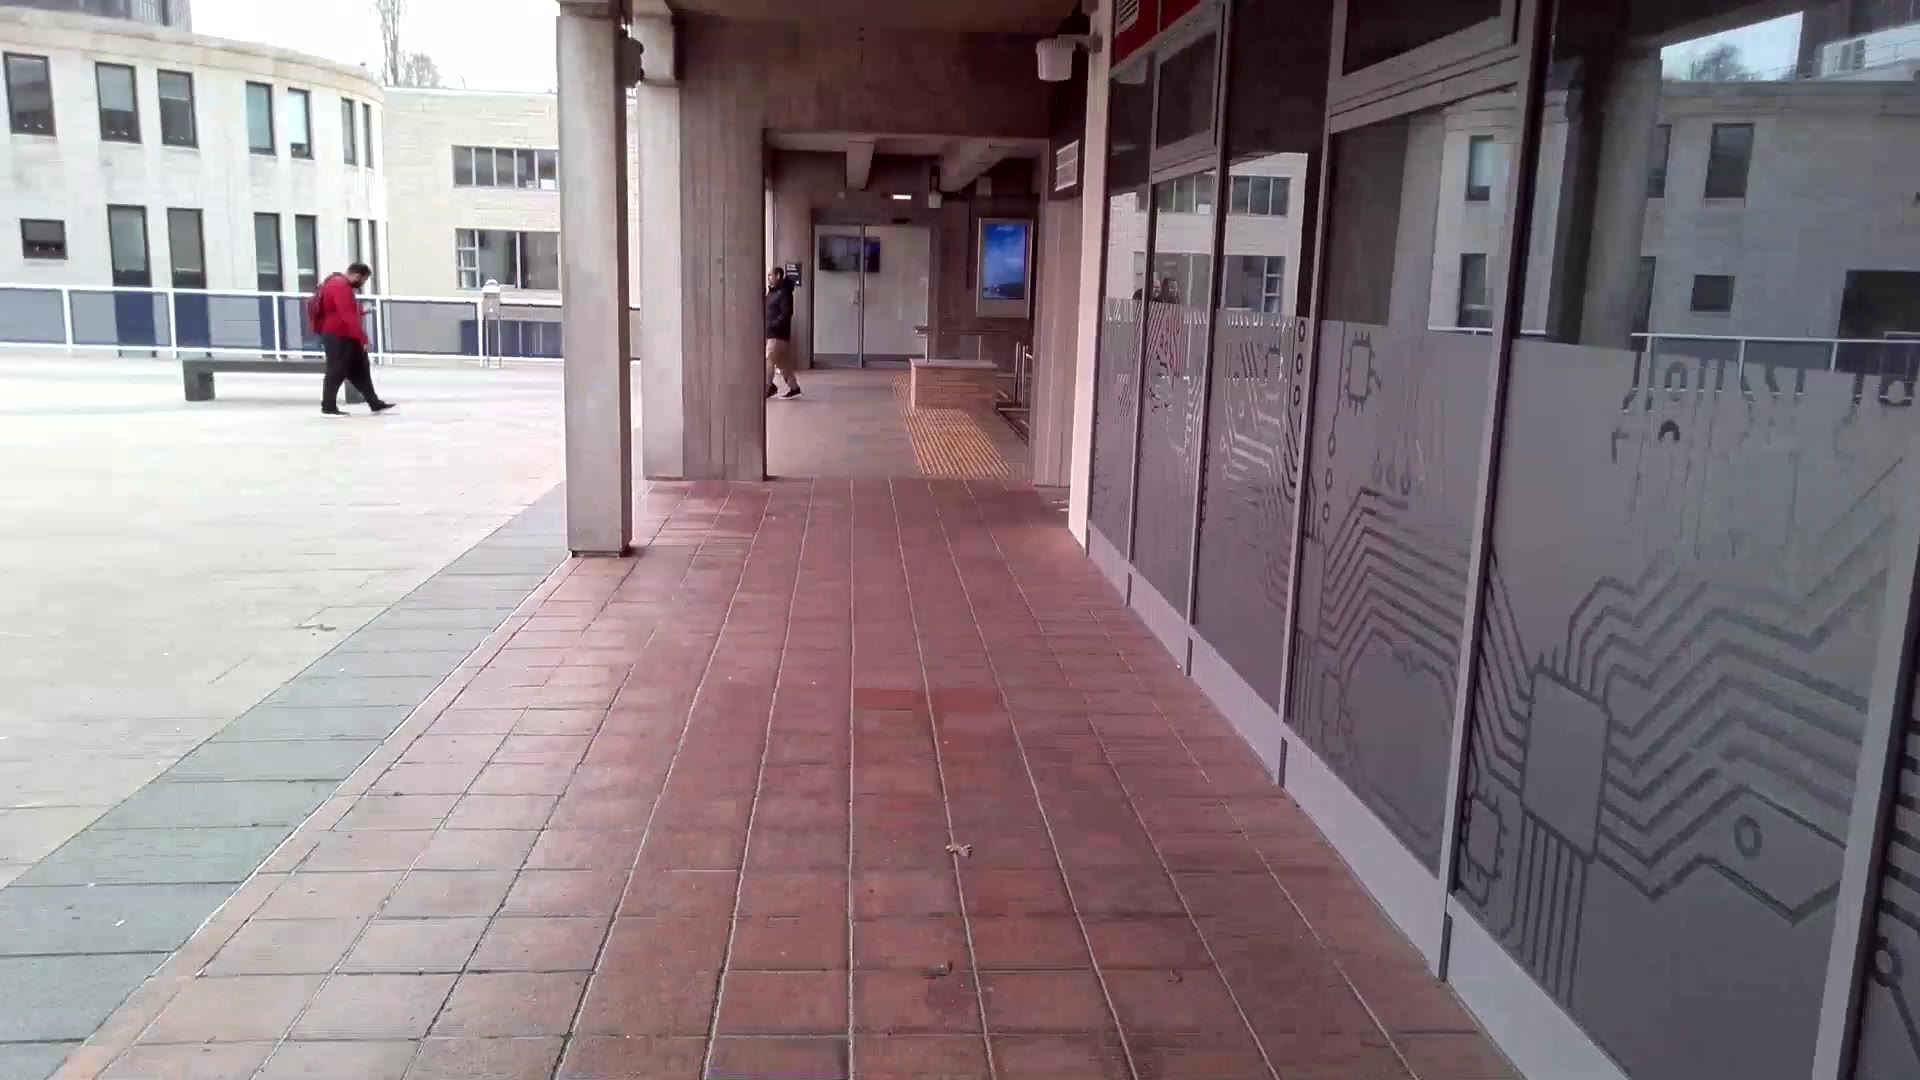Backpack: (301, 282, 336, 345)
Person: (333, 258, 400, 413), (760, 263, 808, 405)
